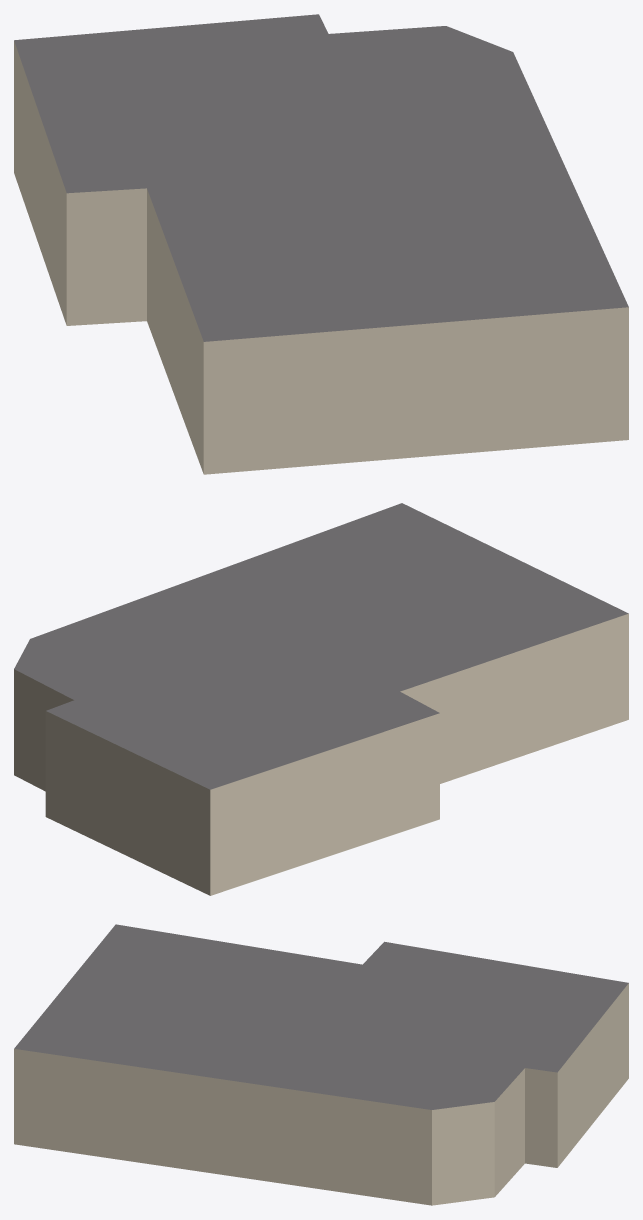
3 renders of one model, top to bottom at view 1: azimuth 30°, elevation 25°; view 2: azimuth 150°, elevation 25°; view 3: azimuth 270°, elevation 25°, orthographic. The views are drawn at different scales.
Parts seen in each view (by area): view 1: tuile; view 2: tuile; view 3: tuile.
Part boxes in pixels (<box>): tuile: <box>14,14,628,474</box>; tuile: <box>14,503,628,895</box>; tuile: <box>14,924,628,1205</box>.
Size of the model in its own units: 20.3 by 4.87 by 28.4.
